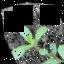Purslane: (0, 4, 64, 64)
